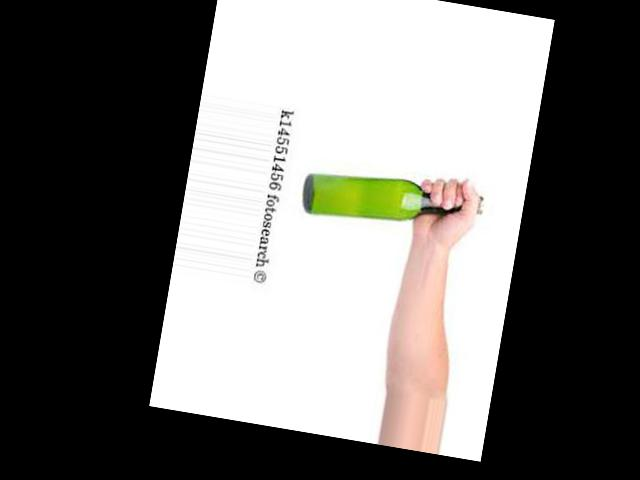beer: (299, 163, 484, 242)
